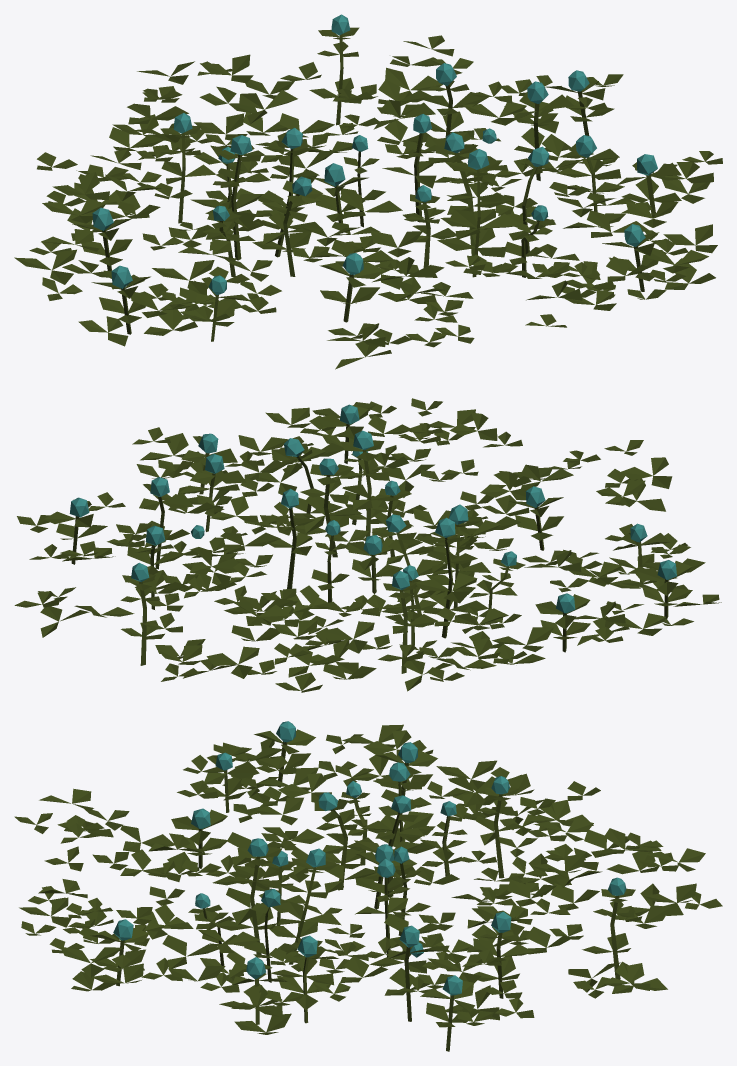
File: SM_Clover_Group_Big.fbx
The picture shows the model from 3 angles, top to bottom: view 1: azimuth 30°, elevation 25°; view 2: azimuth 150°, elevation 25°; view 3: azimuth 270°, elevation 25°; orthographic projection. The views are drawn at different scales.
Visible parts, largest first — view 1: clover-group-big; view 2: clover-group-big; view 3: clover-group-big.
Boxes of the visible parts, <box> form: clover-group-big: <box>14,14,722,369</box>; clover-group-big: <box>14,398,721,692</box>; clover-group-big: <box>14,721,722,1051</box>.
Bounding box in the file's own units: 2.3 × 0.4278 × 2.28.
